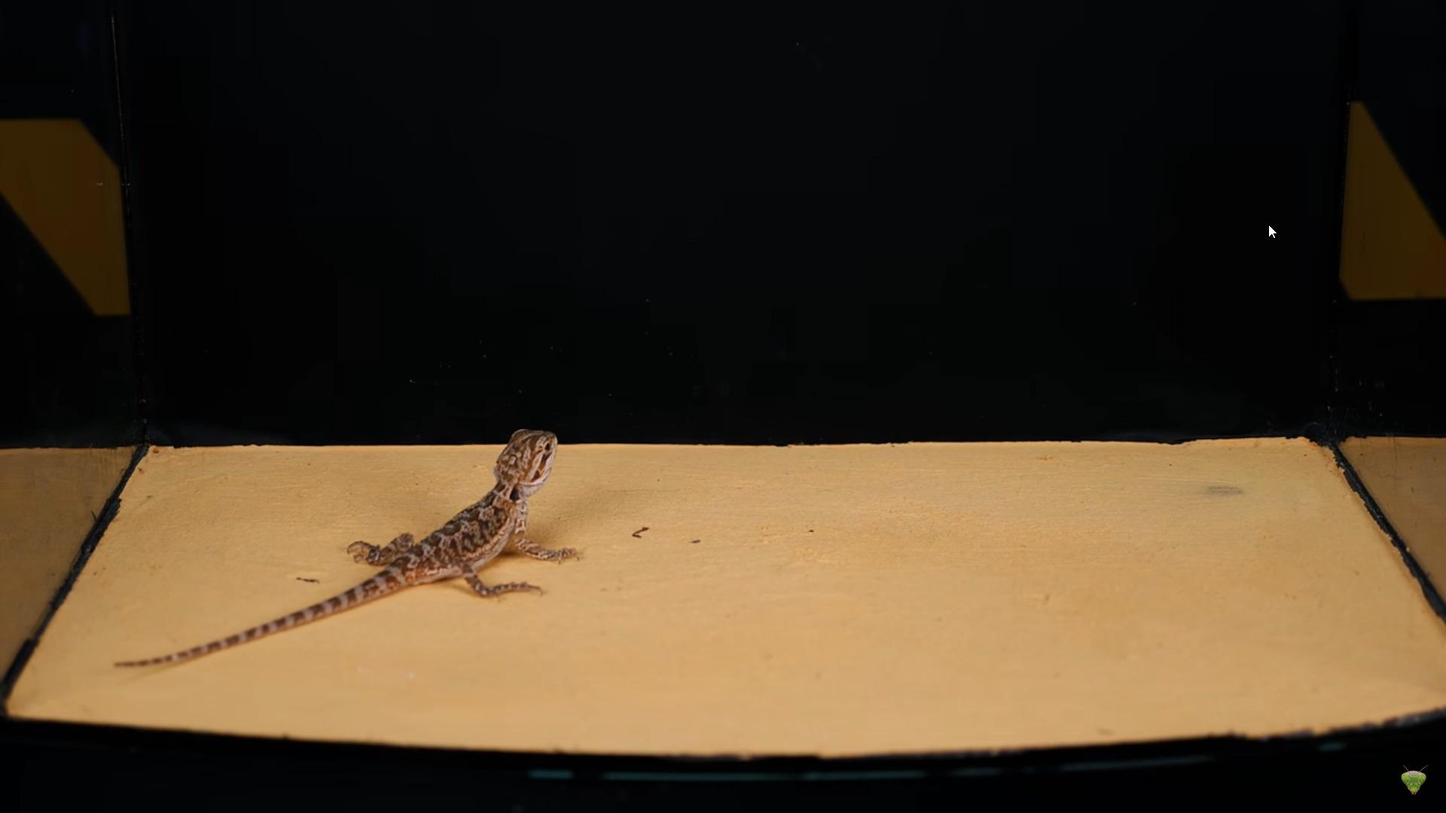lizard: (110, 425, 582, 669)
